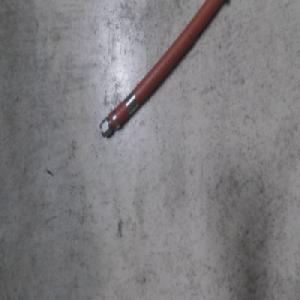Hose: (97, 0, 226, 139)
